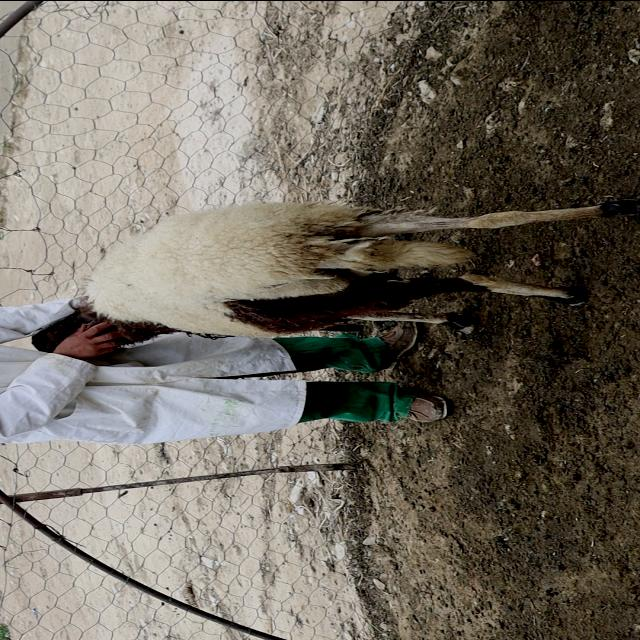Score_2: (34, 199, 639, 352)
